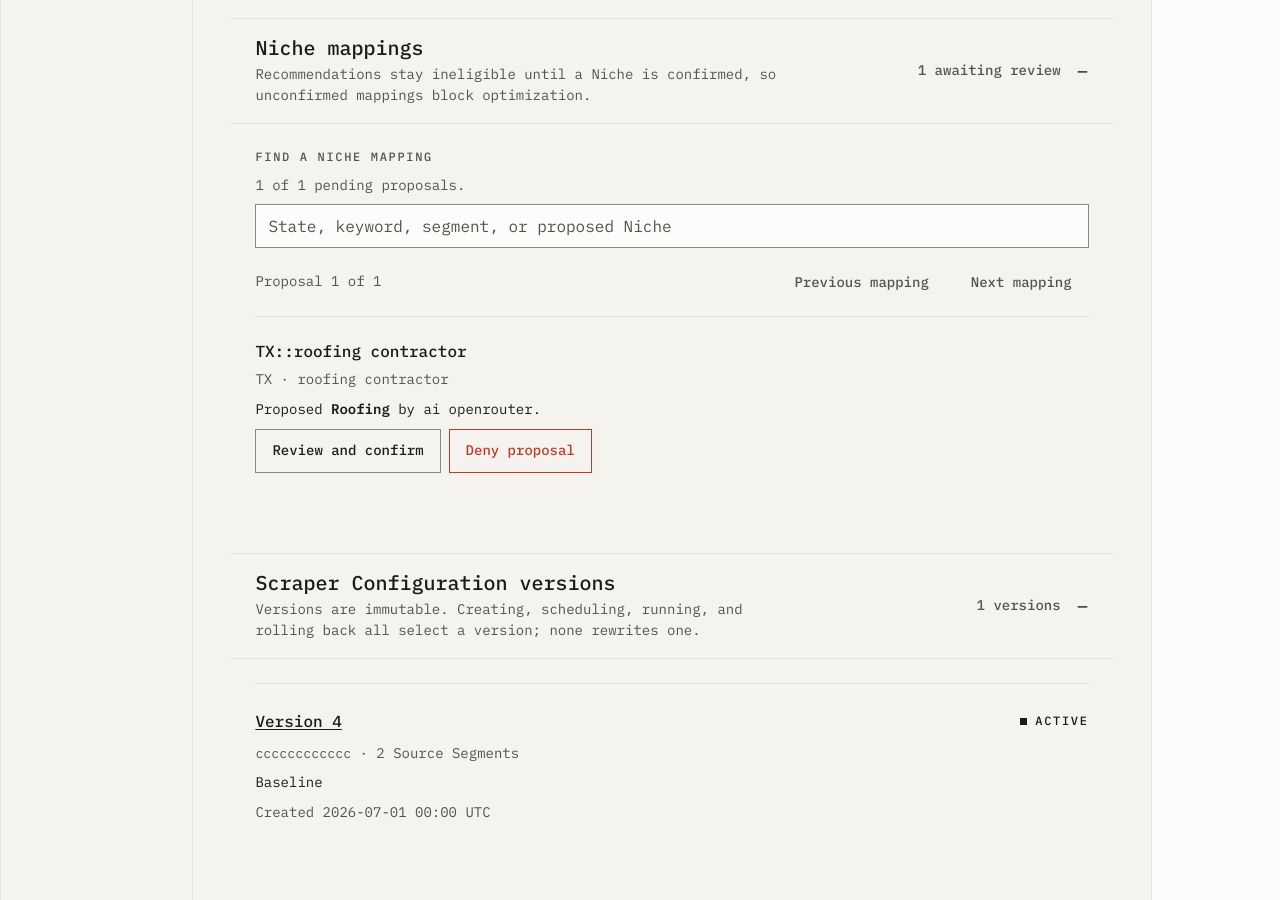
Test case: Niche mapping confirmation › requires an audit reason before confirming
The image size is (1280, 900).
(page scrolled)
Click the button "Review and confirm".
click(348, 451)  # box [255,429,441,473]
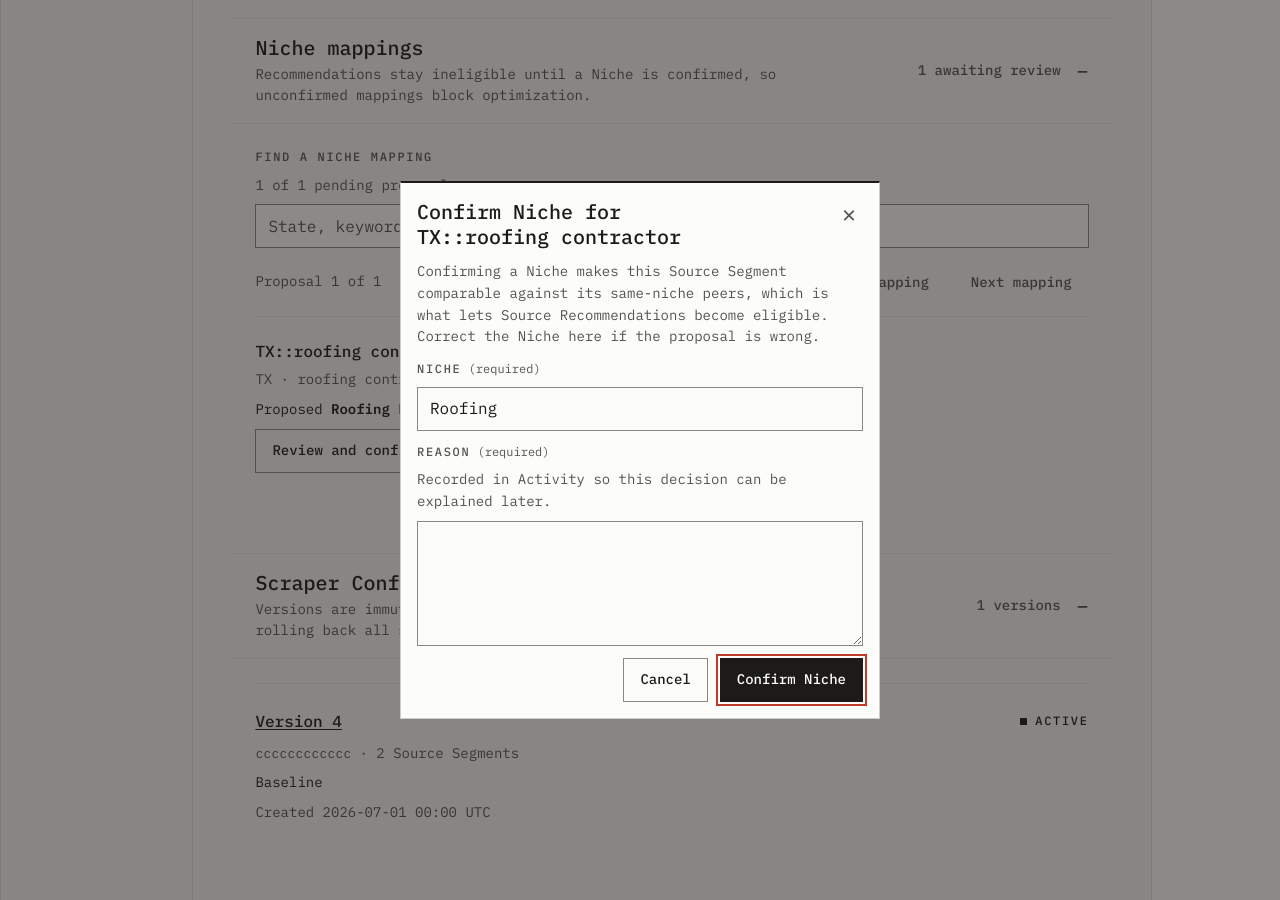
Click the button "Confirm Niche".
click(791, 680)  # box [720,658,863,702]
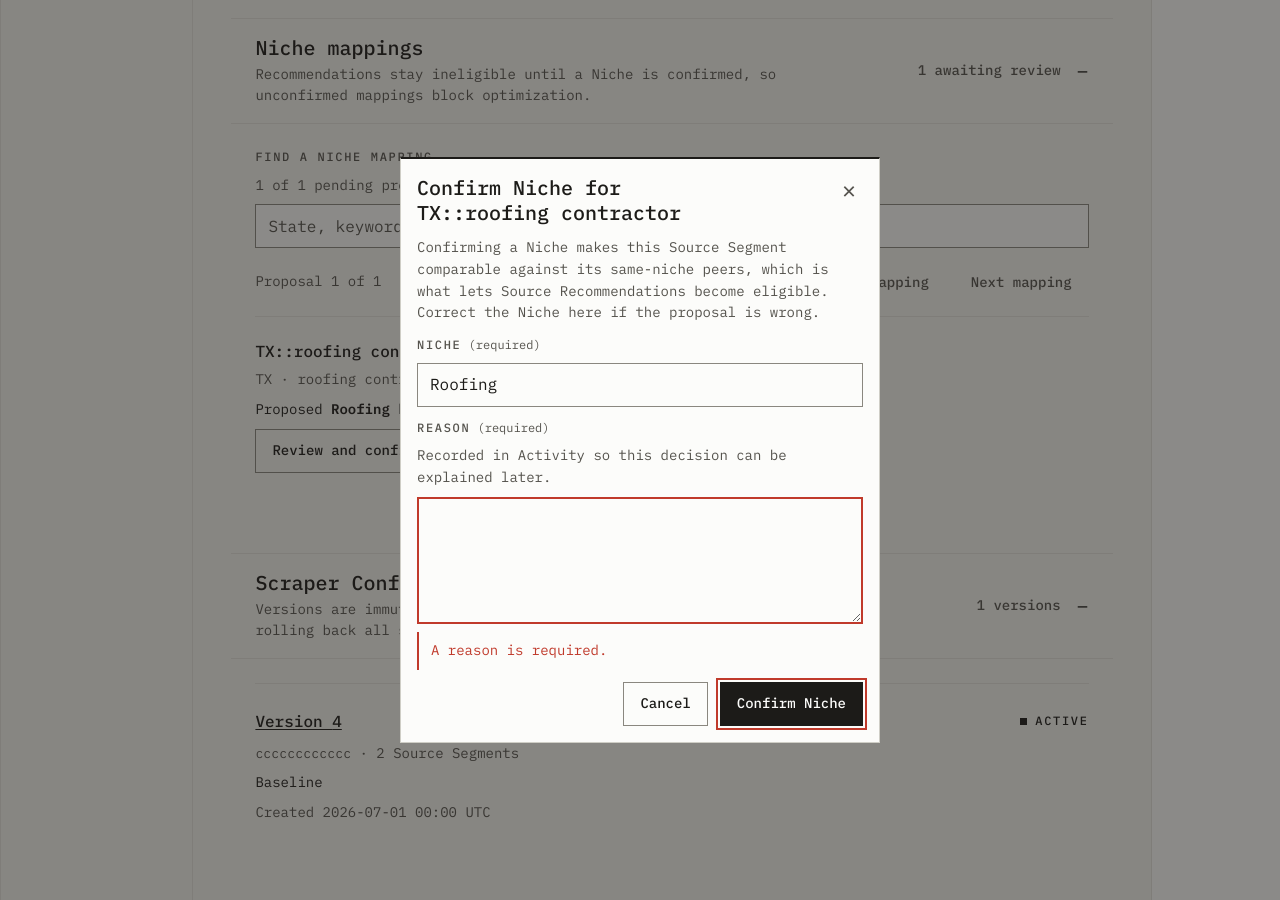
Result: the text "A reason is required." is shown at [417,632,863,670]
